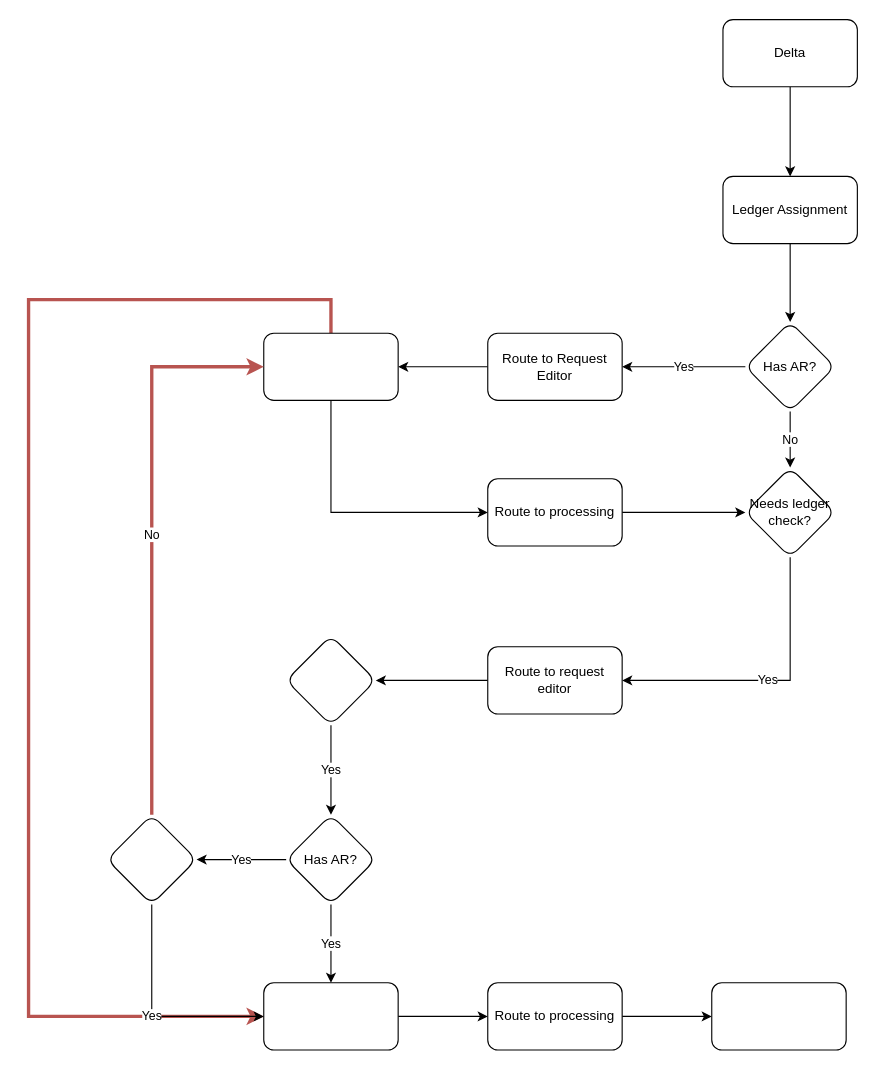
The diagram is 877 pixels wide and 1070 high, and some of its shapes have lost their labels. The centre of each missing label's shape, as x and y in pixels:
Enrich: the point at 330,366
Has debt data: the point at 151,859
Is correct?: the point at 330,679
Publish: the point at 778,1016
QC: the point at 330,1016
